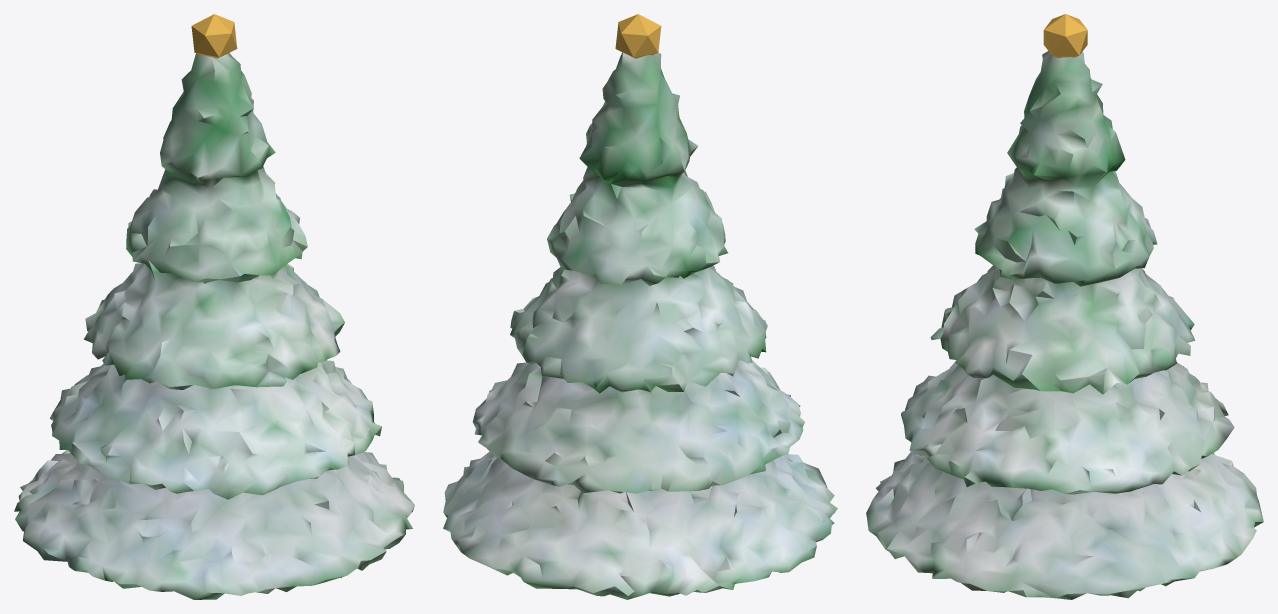
File: frost_toy_tree.glb
3 renders of one model, left to right at view 1: azimuth 30°, elevation 25°; view 2: azimuth 150°, elevation 25°; view 3: azimuth 270°, elevation 25°, orthographic.
Visible parts, largest first — view 1: frost_toy_tree; view 2: frost_toy_tree; view 3: frost_toy_tree.
Part boxes in pixels (bbox=[...]): frost_toy_tree: bbox=[14, 14, 414, 599]; frost_toy_tree: bbox=[443, 14, 837, 599]; frost_toy_tree: bbox=[866, 14, 1263, 599].
Bounding box in the file's own units: 19.97 × 30.01 × 19.82.
